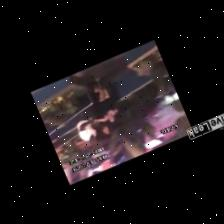person: (93, 84, 117, 121), (76, 109, 95, 145)
